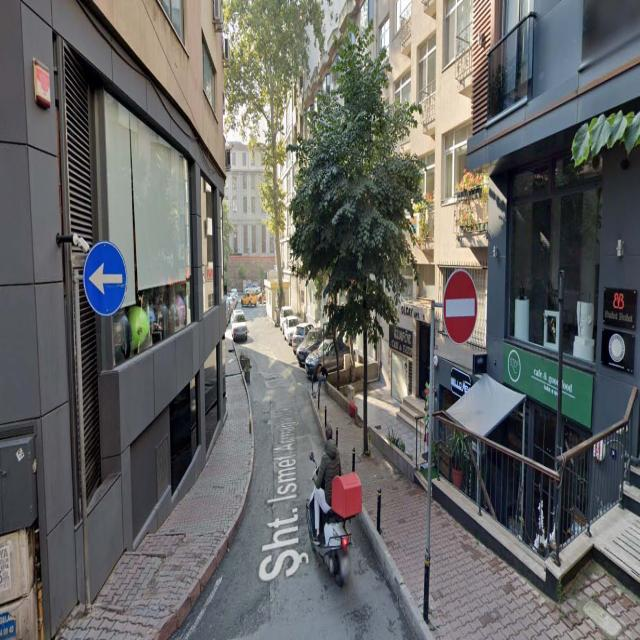girisyok: (444, 269, 478, 345)
sol: (84, 241, 128, 317)
